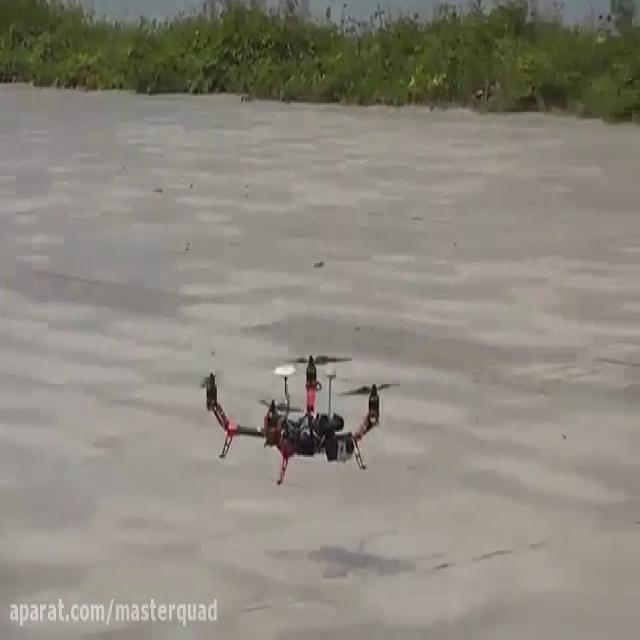drone: (190, 349, 404, 487)
